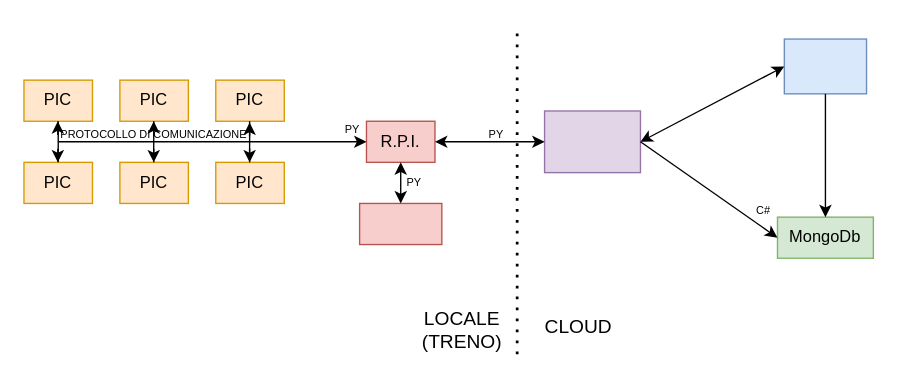
Some shapes in this 897 by 382 pixel diagram are drawn without their labels. Each missing label, with the box of its shape:
BROKER MQTT (HIVEMQ): (543, 110, 640, 173)
REDIS: (358, 202, 442, 245)
WEB APP: (783, 38, 867, 94)
